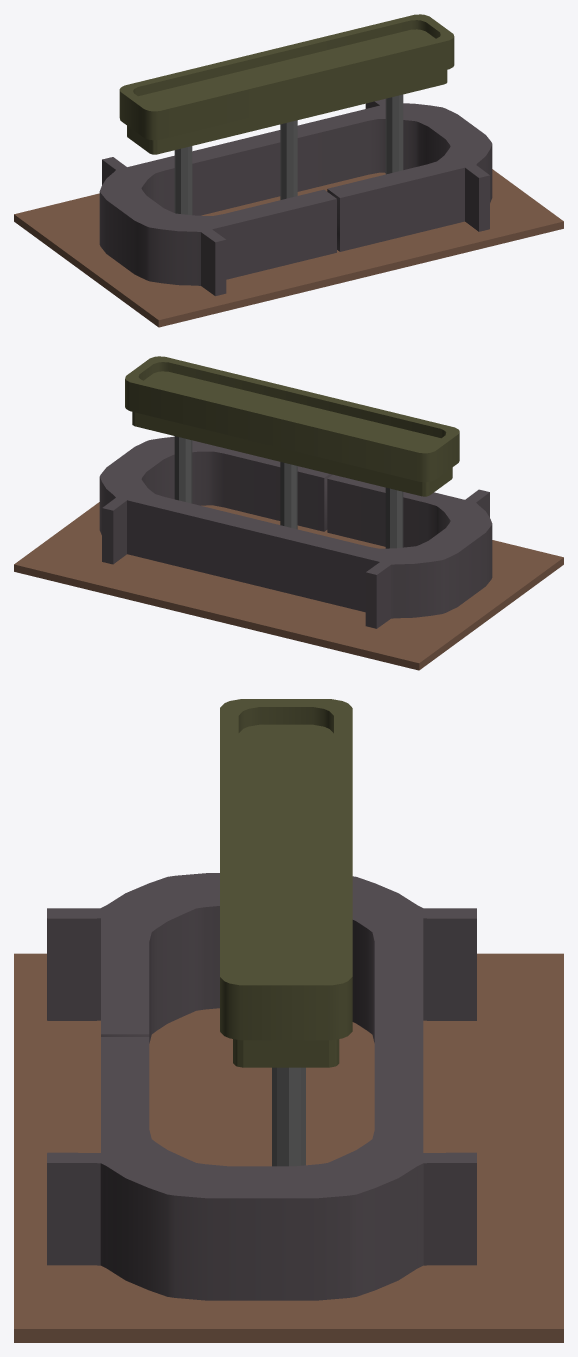
File: SM_metal_support_07.fbx
3 renders of one model, top to bottom at view 1: azimuth 30°, elevation 25°; view 2: azimuth 150°, elevation 25°; view 3: azimuth 270°, elevation 25°, orthographic. The views are drawn at different scales.
Parts seen in each view (by area): view 1: metal_support_07; view 2: metal_support_07; view 3: metal_support_07.
Boxes of the visible parts, box(x1,y1,x2,y2) form: metal_support_07: box(14, 14, 563, 327); metal_support_07: box(14, 356, 563, 670); metal_support_07: box(14, 699, 563, 1342).
Size of the model in its own units: 114 by 43.78 by 70.3.
